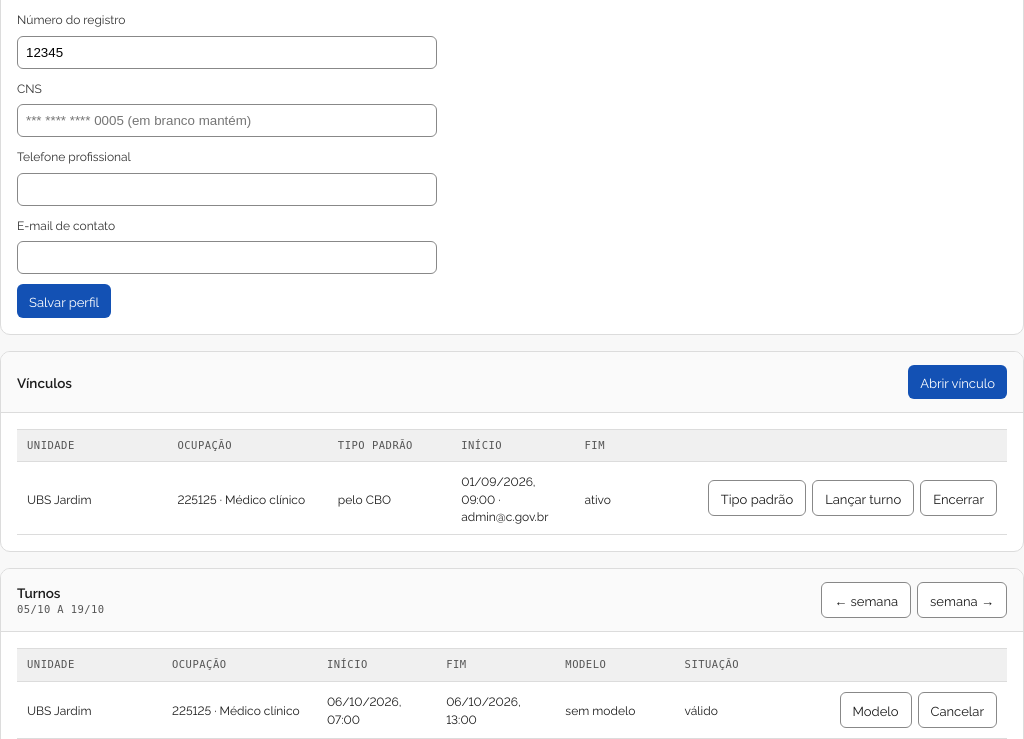
ProfessionalDetail › encerrar avisa quantos turnos futuros nos próximos 62 dias serão cancelados
This screenshot has width=1024, height=739.
(page scrolled)
What coordinates should you click on to do the following:
click the button "Encerrar"
I would click on:
 (959, 498)
Its box is 920,480 -> 997,516.
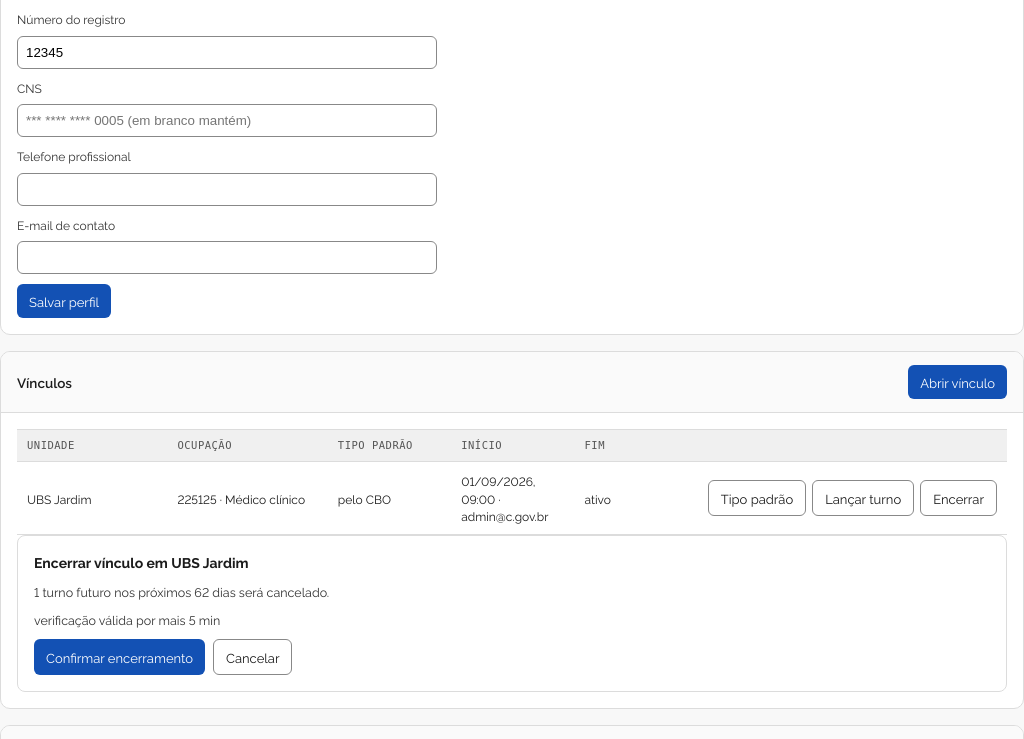
Now the text "1 turno futuro nos próximos 62 dias será cancelado." is shown, box 34,583 -> 329,600
